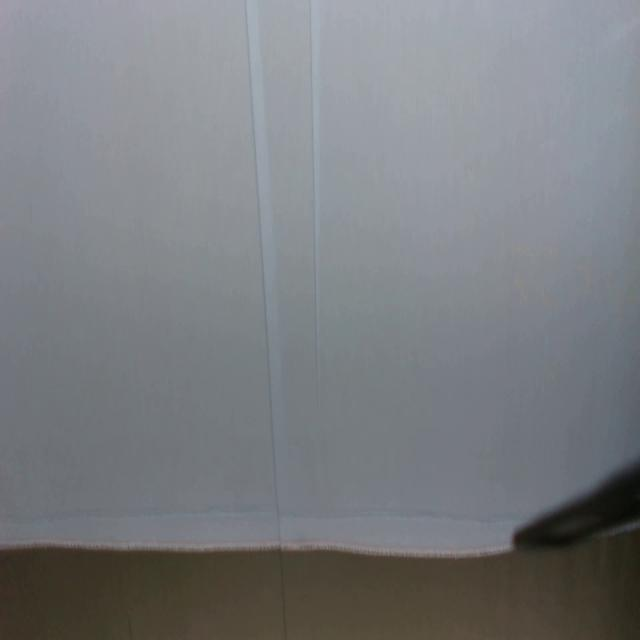crease: (244, 0, 290, 640), (306, 0, 321, 406)
